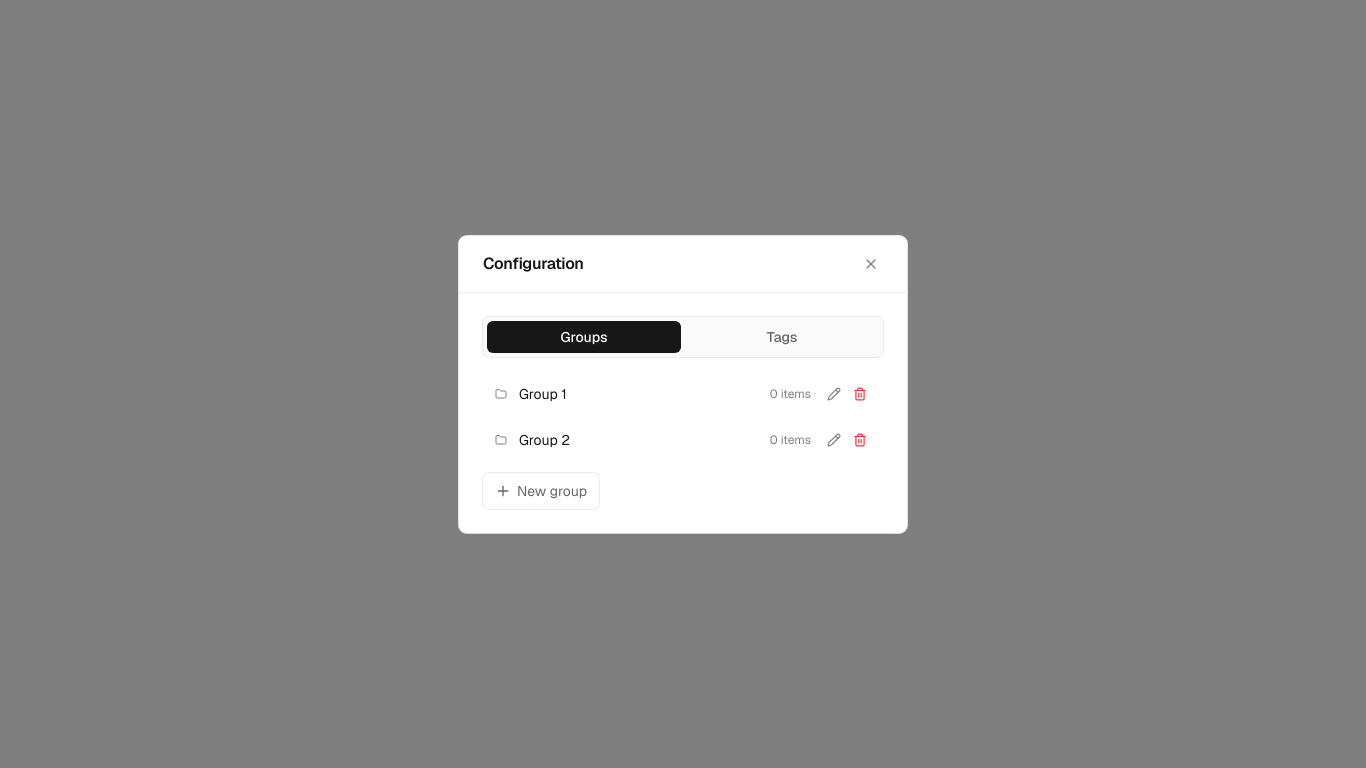
Test: ConfigurationModal › delete item › shows delete confirmation when Delete is clicked
The width and height of the screenshot is (1366, 768).
Click the button named "Delete Group 1".
click(860, 394)  # box [849,382,871,404]
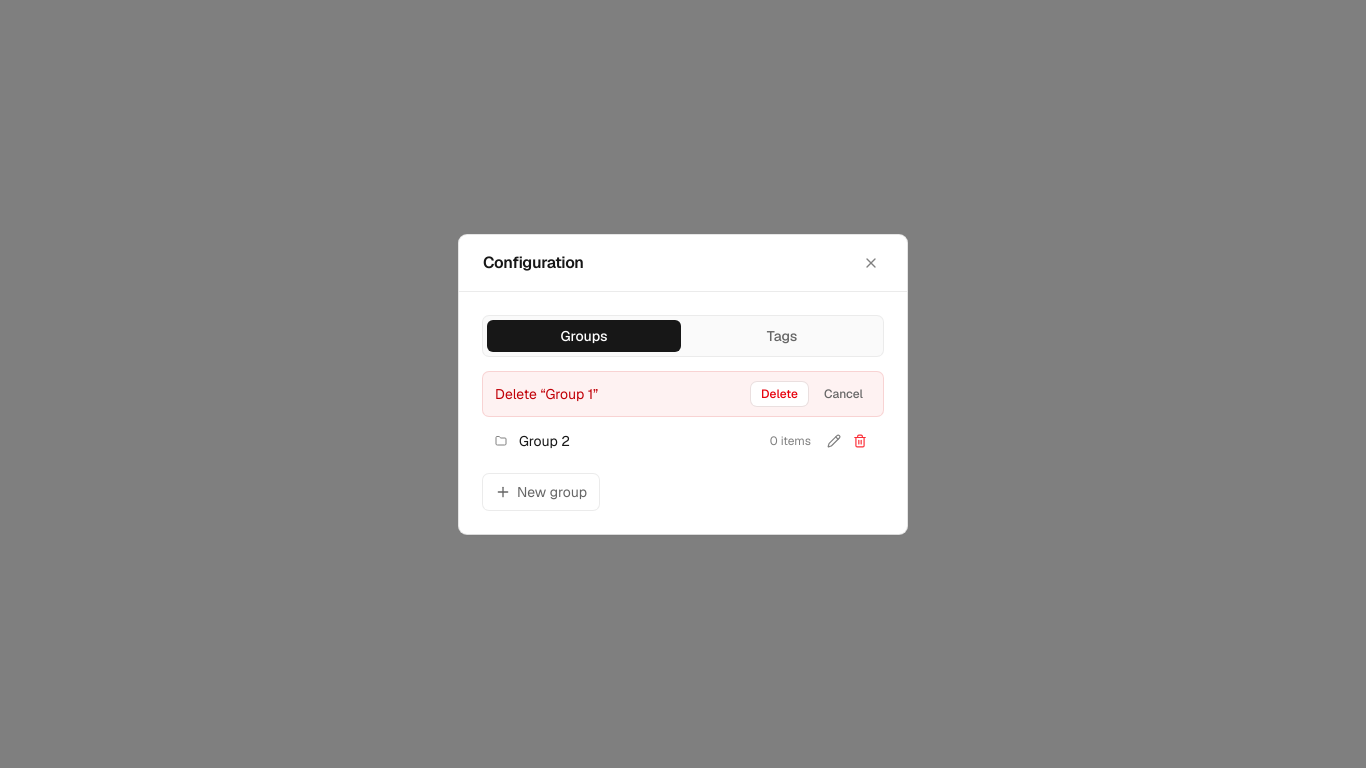
Check: the text "Delete “Group 1”" is shown, box [495,384,598,402]
Check: the button "Delete" is shown, box [751,382,808,406]
Check: the number of buttons "Cancel" is 1, box [816,382,871,406]
